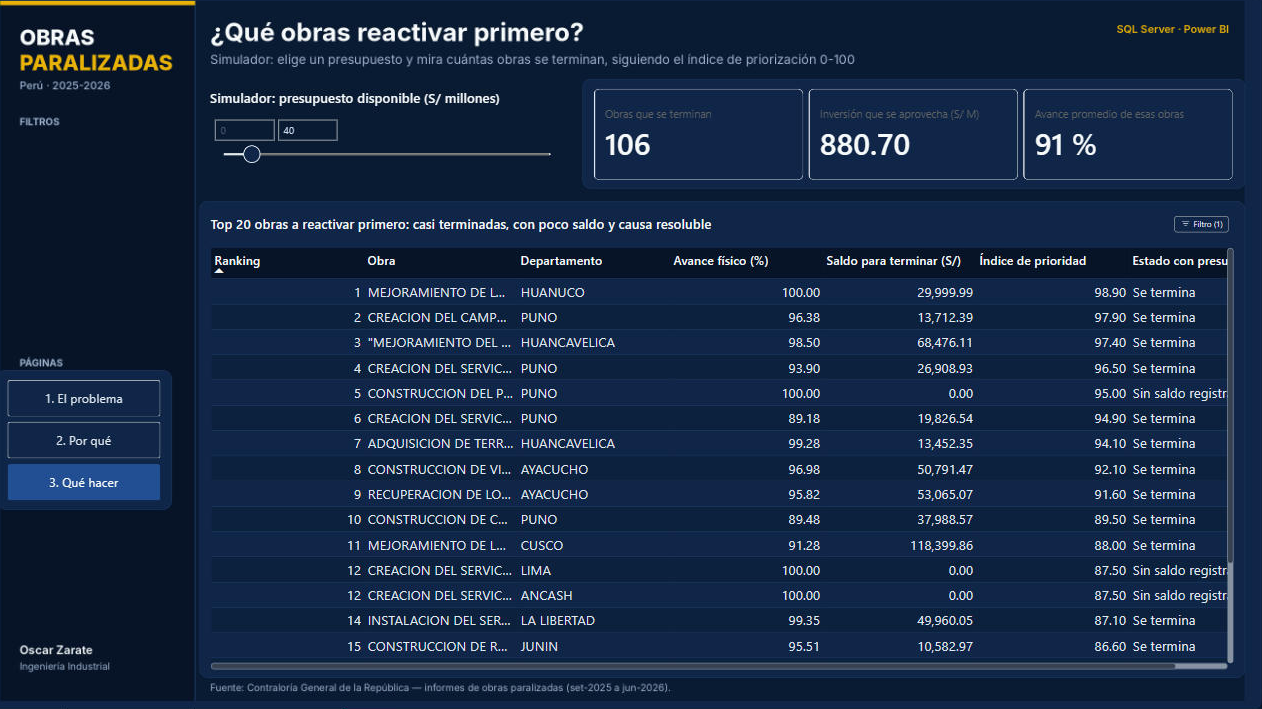

The dashboard page shown, as its layout file describes it:
{"tool":"powerbi","page":{"name":"3. Qué hacer","canvas":[1920,1080],"ordinal":2},"visuals":[{"type":"image","box":[0,0,1920,1080],"z":0},{"type":"tableEx","title":"Top 20 obras a reactivar primero: casi terminadas, con poco saldo y causa resoluble","fields":{"Values":["Sum(dw vw_indice_priorizacion.ranking)","dw vw_indice_priorizacion.descripcion_obra","dw vw_indice_priorizacion.departamento","Sum(dw vw_indice_priorizacion.avance_fisico)","Sum(dw vw_indice_priorizacion.saldo_pendiente)","Sum(dw vw_indice_priorizacion.indice_prioridad)","dw vw_indice_priorizacion.Estado con presupuesto"]},"box":[324,315,1572,717],"z":1000},{"type":"pageNavigator","box":[18,570,264,210],"z":2000},{"type":"slicer","title":"Simulador: presupuesto disponible (S/ millones)","fields":{"Values":["Presupuesto.Value"]},"box":[324,132,560,165],"z":2001},{"type":"cardVisual","fields":{"Data":["dw vw_indice_priorizacion.Obras que se terminan","dw vw_indice_priorizacion.Inversion destrabada S/ M","dw vw_indice_priorizacion.Avance promedio financiadas"]},"box":[900,132,996,165],"z":2002}]}

Visuals, with their boxes on the page's 1920x1080 design canvas (x1, y1, x2, y2). These are canvas units, not pixel positions in the 1262x709 screenshot, which may show the page scaled, cropped or inside an application window:
image: (x1=0, y1=0, x2=1920, y2=1080)
"Top 20 obras a reactivar primero: casi terminadas, con poco saldo y causa resoluble" tableEx: (x1=324, y1=315, x2=1896, y2=1032)
pageNavigator: (x1=18, y1=570, x2=282, y2=780)
"Simulador: presupuesto disponible (S/ millones)" slicer: (x1=324, y1=132, x2=884, y2=297)
cardVisual - dw vw_indice_priorizacion.Obras que se terminan x dw vw_indice_priorizacion.Inversion destrabada S/ M: (x1=900, y1=132, x2=1896, y2=297)
